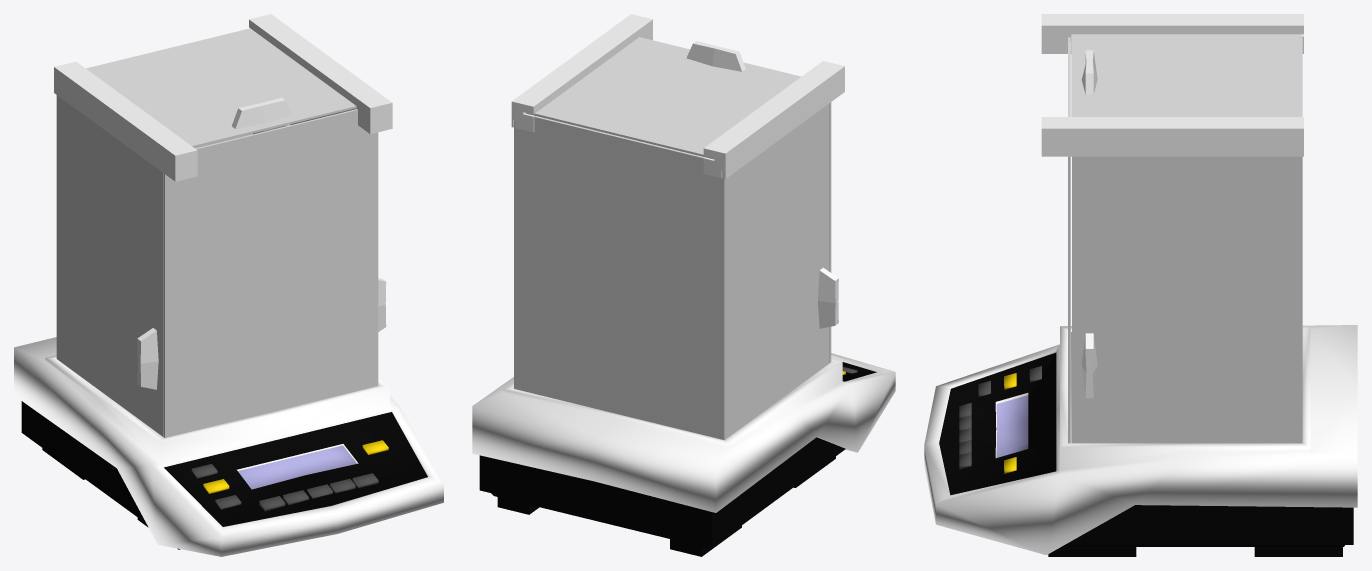
File: balanza.fbx
3 views of the same model, side by side, from view 1: azimuth 30°, elevation 25°; view 2: azimuth 150°, elevation 25°; view 3: azimuth 270°, elevation 25° (orthographic). The views are drawn at different scales.
Parts seen in each view (by area): view 1: Plane, Cube, Plane.001, Plane.003, Cube.004, Cube.002, Cube.010, Cube.006, Cube.007, Plane.002, Cube.011; view 2: Plane.002, Cube, Plane.001, Plane.003, Cube.002, Cube.004, Cube.006, Cube.007, Cube.009, Plane; view 3: Plane.001, Cube, Plane.003, Cube.004, Cube.002, Cube.009, Cube.010, Plane, Plane.002, Cube.006, Cube.007.
Boxes of the visible parts, x1,y1,x2,y2 form: Plane: [163, 109, 378, 437]; Cube: [14, 337, 443, 556]; Plane.001: [57, 95, 340, 436]; Plane.003: [86, 28, 356, 147]; Cube.004: [54, 14, 392, 181]; Cube.002: [21, 401, 146, 523]; Cube.010: [191, 464, 378, 511]; Cube.006: [137, 278, 386, 389]; Cube.007: [232, 97, 291, 128]; Plane.002: [56, 95, 252, 358]; Cube.011: [203, 440, 388, 493]; Plane.002: [514, 116, 725, 439]; Cube: [472, 353, 895, 512]; Plane.001: [725, 103, 829, 439]; Plane.003: [525, 37, 801, 159]; Cube.002: [479, 437, 845, 547]; Cube.004: [511, 14, 844, 179]; Cube.006: [818, 267, 838, 328]; Cube.007: [686, 41, 745, 71]; Cube.009: [497, 456, 835, 556]; Plane: [829, 102, 831, 362]; Plane.001: [1072, 156, 1300, 443]; Cube: [924, 325, 1357, 555]; Plane.003: [1071, 34, 1300, 116]; Cube.004: [1041, 14, 1303, 156]; Cube.002: [1061, 505, 1353, 546]; Cube.009: [1048, 547, 1342, 556]; Cube.010: [959, 366, 1041, 469]; Plane: [1068, 37, 1070, 443]; Plane.002: [1300, 37, 1302, 443]; Cube.006: [1081, 333, 1097, 398]; Cube.007: [1081, 50, 1097, 94].
Size of the model in its own units: 31.02 by 48.67 by 43.49.
